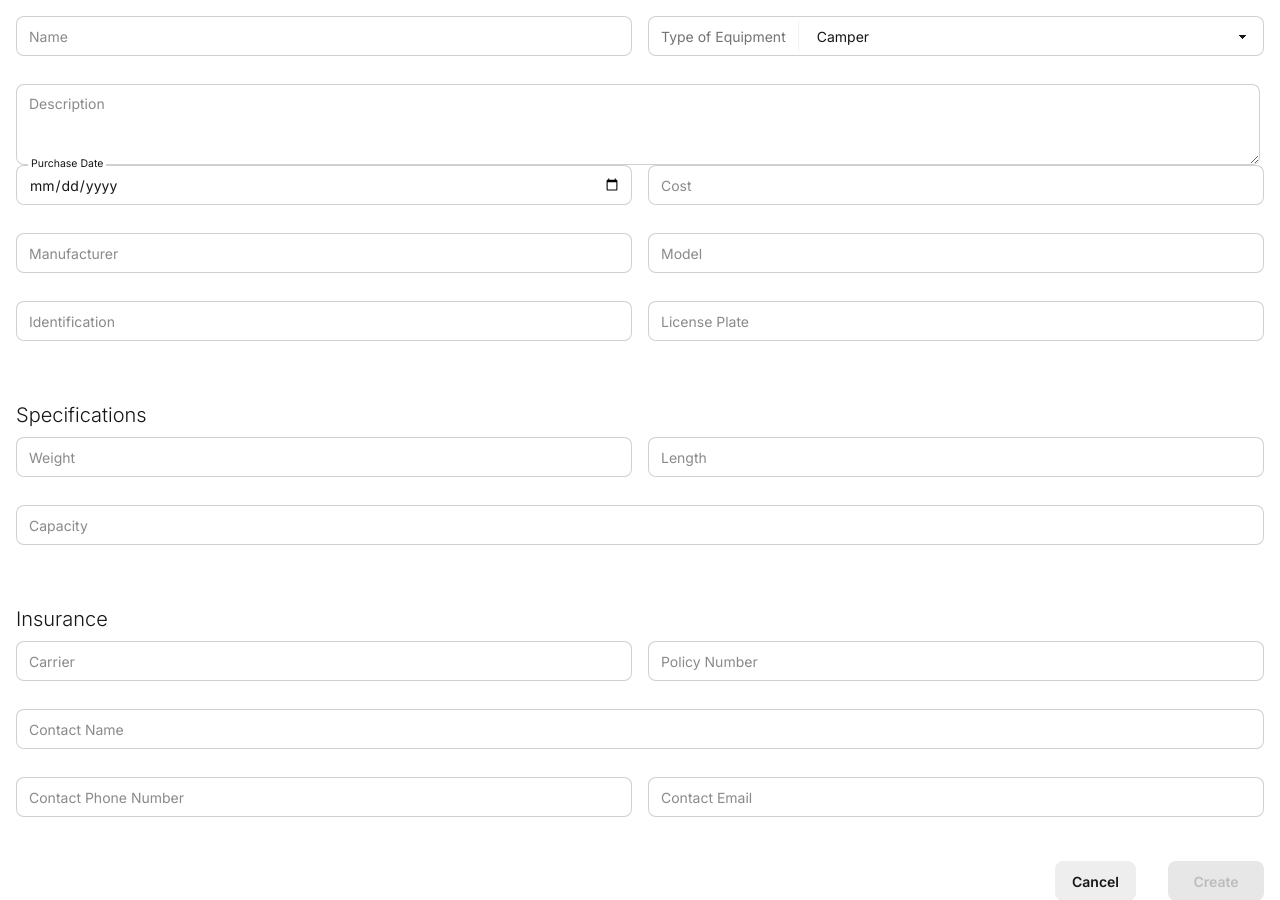
Equipment Editor › name input › required error › is displayed after tabbing out of the input
Click the field labelled "Name": point(324, 36) [16, 16, 632, 56]
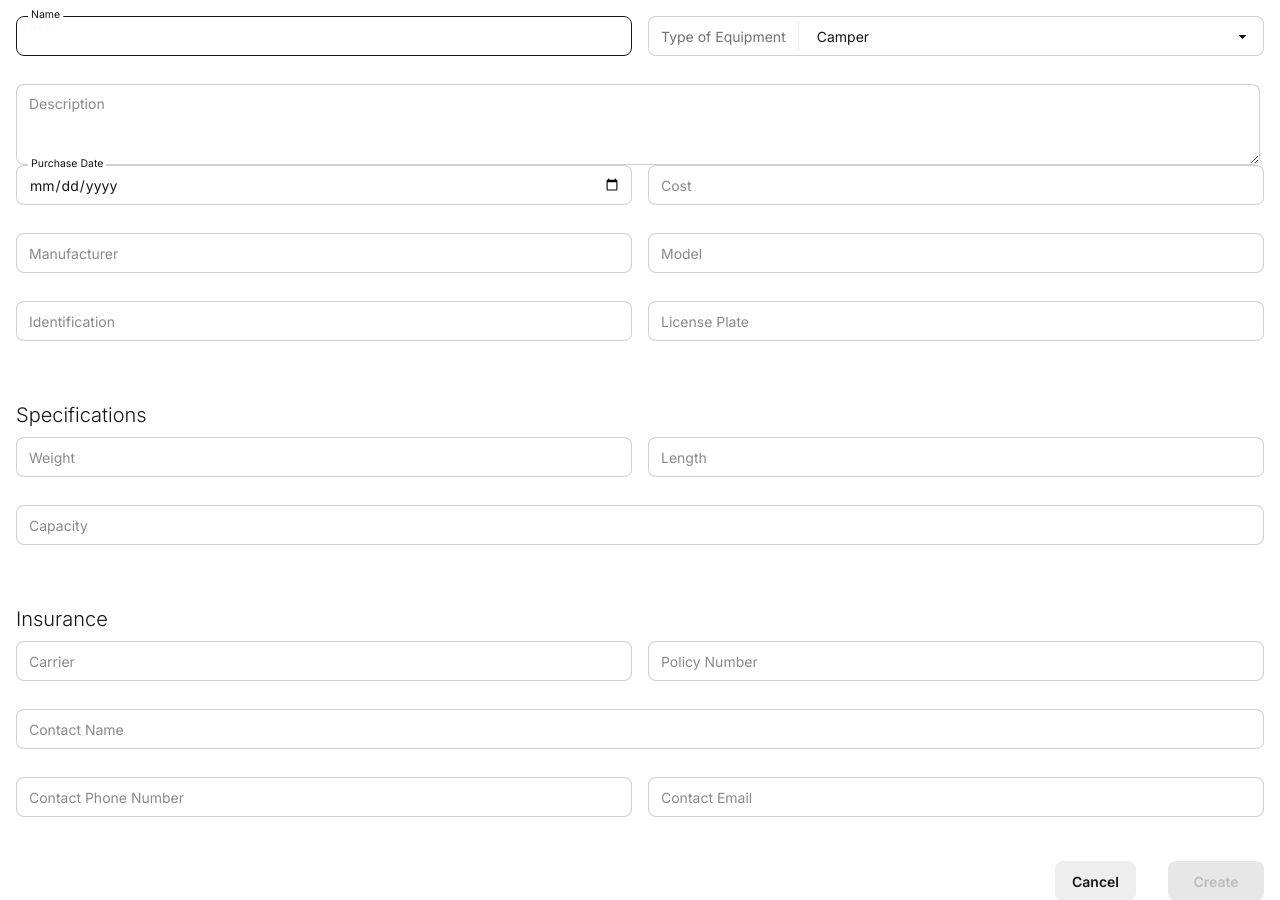
Press Tab
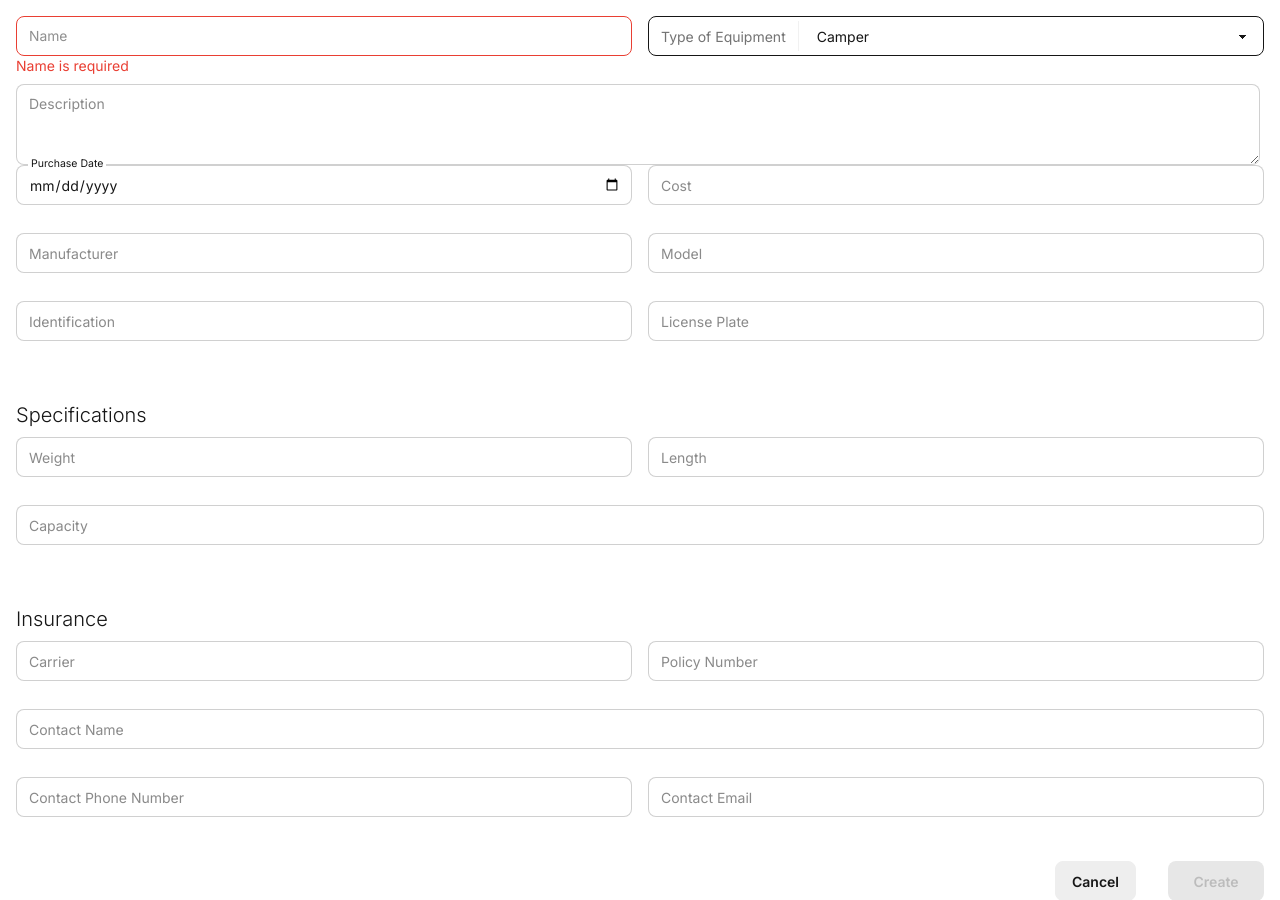
Expected: the text "Name is required" is shown, [16, 57, 129, 74]
